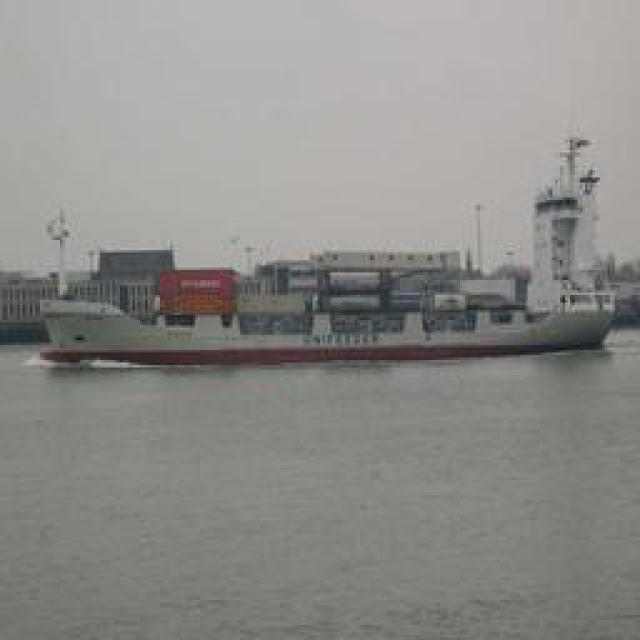Ship: (22, 246, 630, 371)
